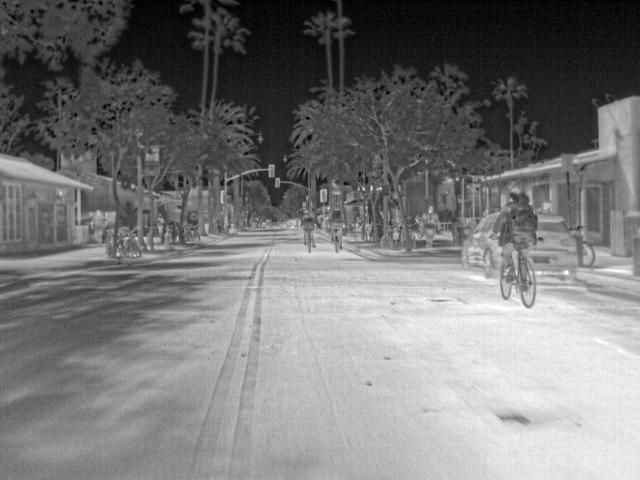car: (459, 212, 501, 279), (537, 215, 579, 281), (283, 218, 298, 230)
person: (498, 186, 539, 290), (418, 206, 440, 250), (298, 209, 319, 248), (88, 207, 109, 245), (327, 206, 345, 250), (154, 213, 166, 238), (539, 200, 554, 214)
